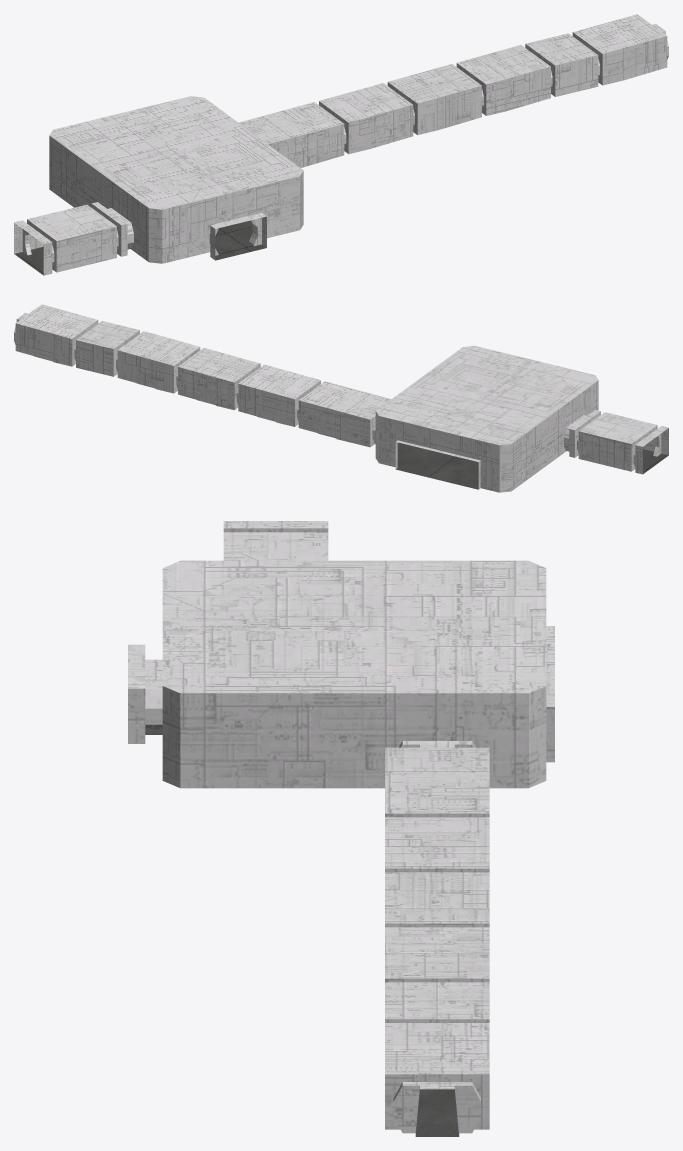
File: thm_spc_star_destroyer_s01_r4_mainengineering_mesh_r4.fbx
The picture shows the model from 3 angles, top to bottom: view 1: azimuth 30°, elevation 25°; view 2: azimuth 150°, elevation 25°; view 3: azimuth 270°, elevation 25°; orthographic projection. The views are drawn at different scales.
Visible parts, largest first — view 1: mesh_node; view 2: mesh_node; view 3: mesh_node.
Boxes of the visible parts, x1,y1,x2,y2 form: mesh_node: [14, 14, 668, 275]; mesh_node: [14, 304, 668, 492]; mesh_node: [128, 521, 554, 1136].
Bounding box in the file's own units: 78.75 × 6 × 24.5.
Materials: 2 (2 with a texture image).
